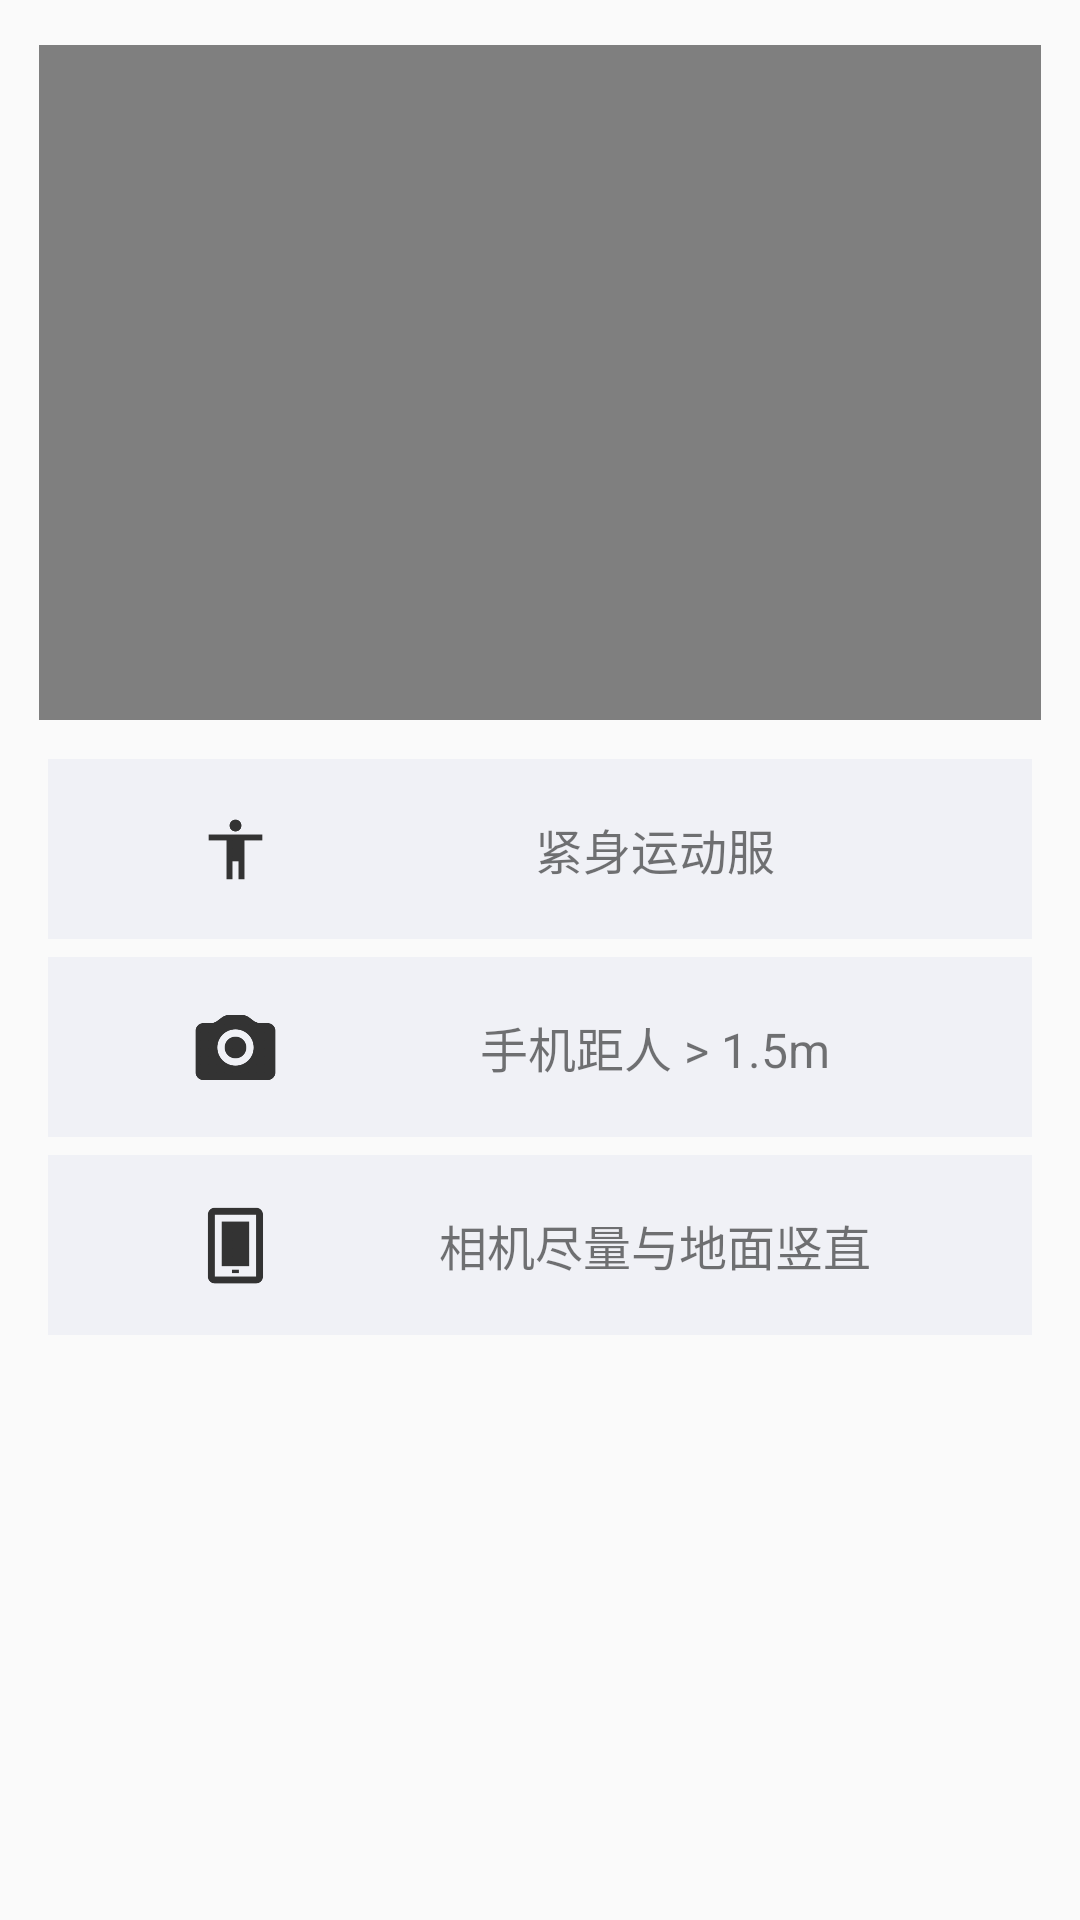

Point at icon controls on the screen. Image size 1080*1920, points as [x,y].
smartphone: [235,1246]
